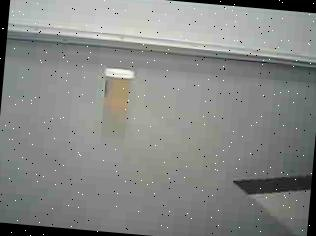Bottle B: (91, 63, 142, 123)
